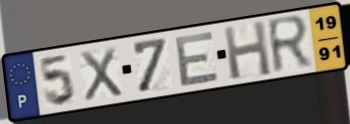5: (37, 51, 77, 108)
7: (130, 37, 171, 96)
E: (174, 28, 222, 89)
H: (221, 19, 274, 82)
R: (265, 13, 315, 77)
X: (78, 45, 126, 104)
